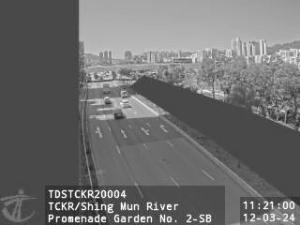truck: (102, 84, 110, 94)
vehicle: (114, 109, 124, 119), (120, 99, 128, 107), (104, 96, 112, 103), (120, 89, 126, 97)
